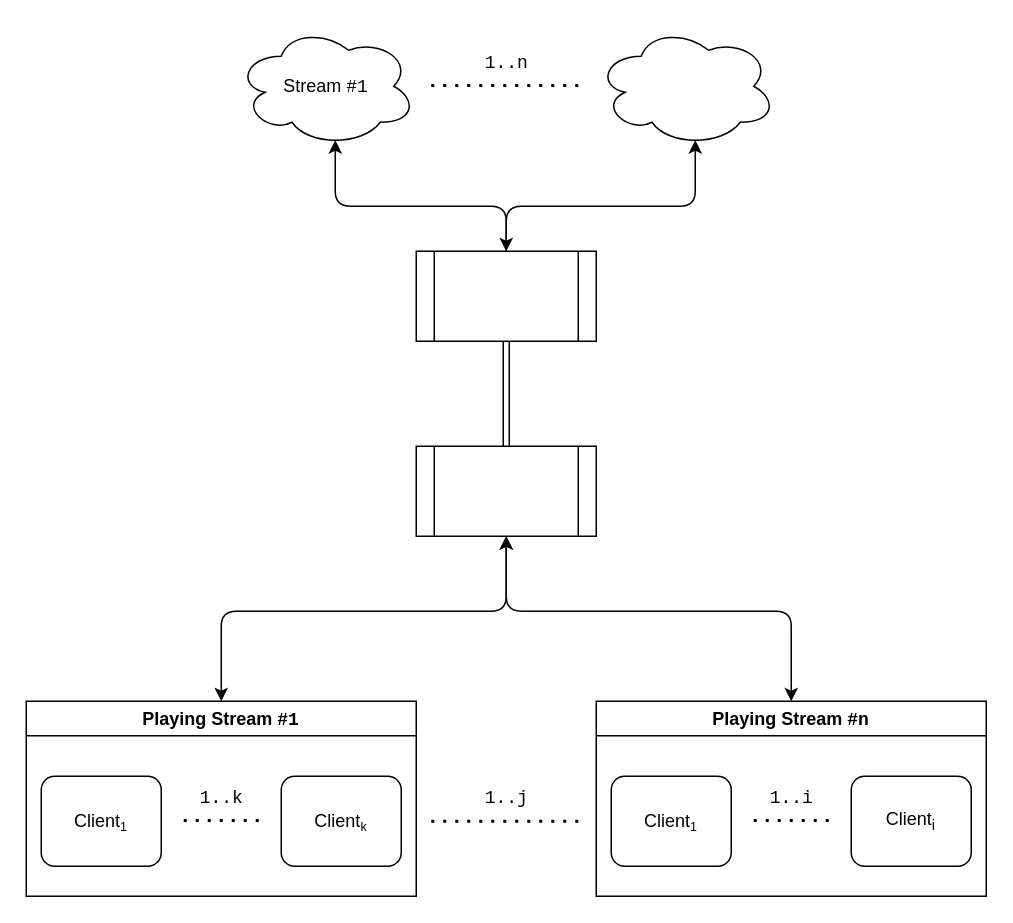
The diagram is 1013 pixels wide and 923 high, and some of its shapes have lost their labels. Here are the shapes that lost their labels. From the top down, the centre of each, then its label:
At (685,85): "Stream #n".
At (505,295): "AceStream Server".
At (505,490): "acexy".
